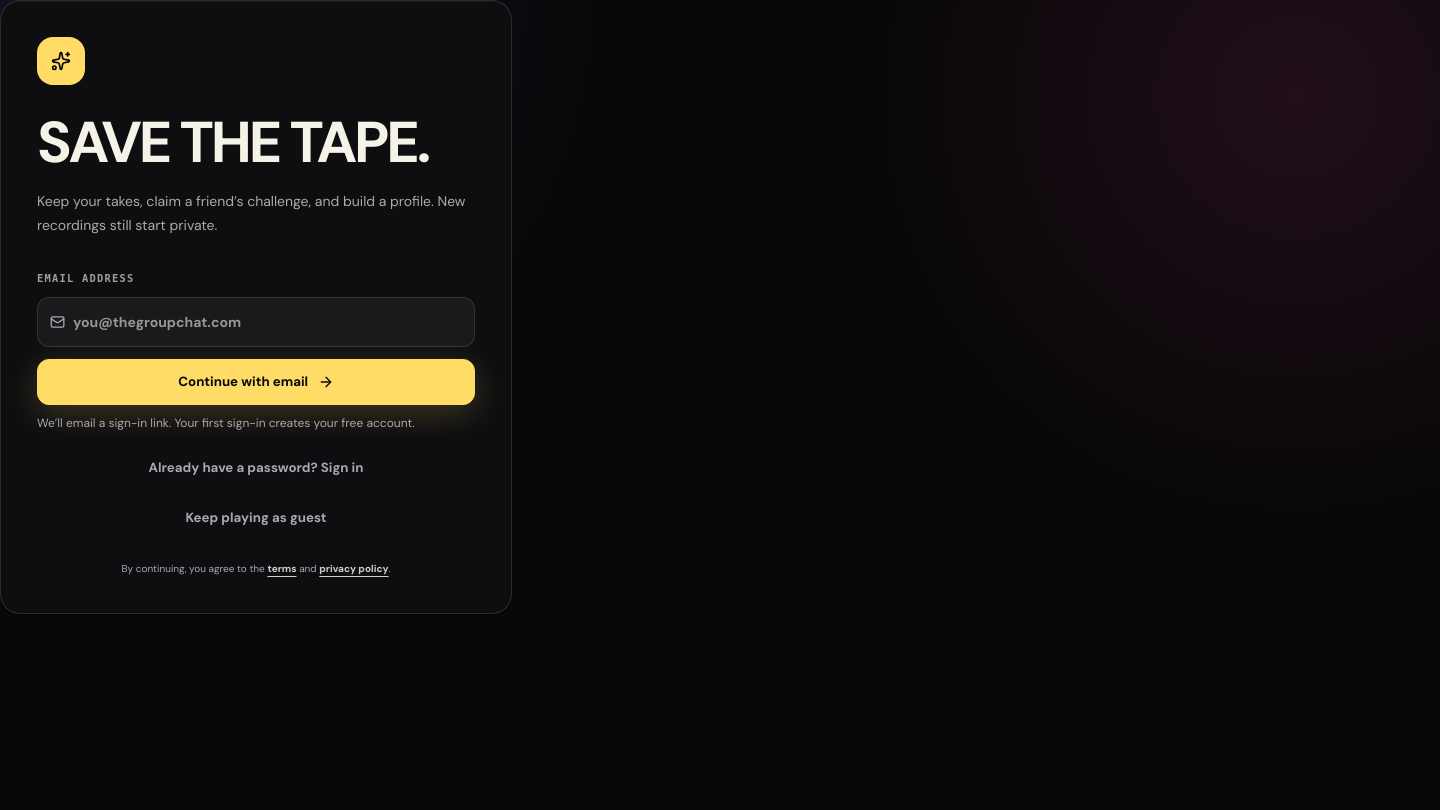
connected sign-in recovery › shows a useful sending-limit recovery while keeping the original return path
Type "person@example.com" into the field labelled "Email address" at (268, 322), box [73,298,462,346]
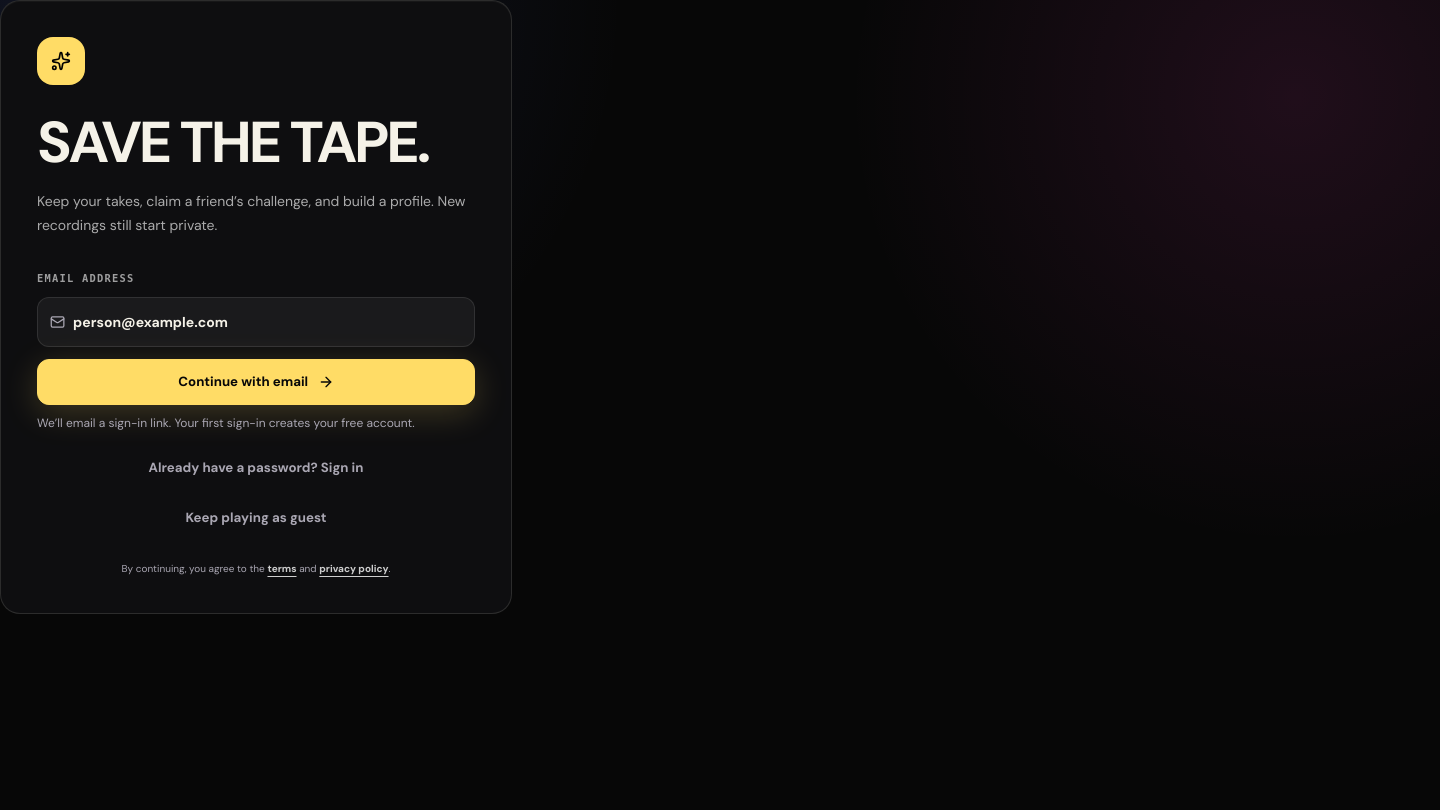
Click the button "Continue with email" at (256, 382), box [37,359,475,405]
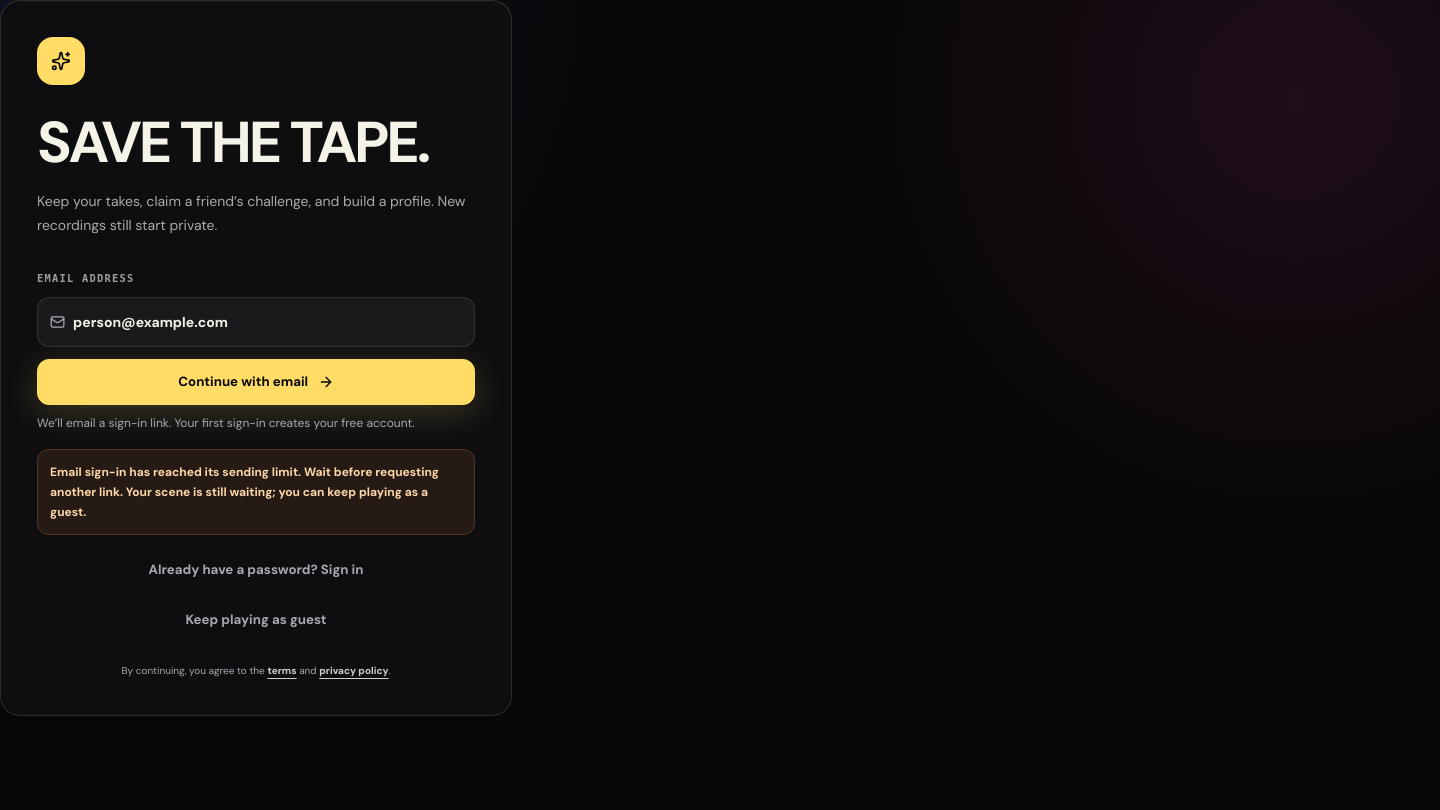
Check: the message shows "sending limit", box [50,464,439,520]
